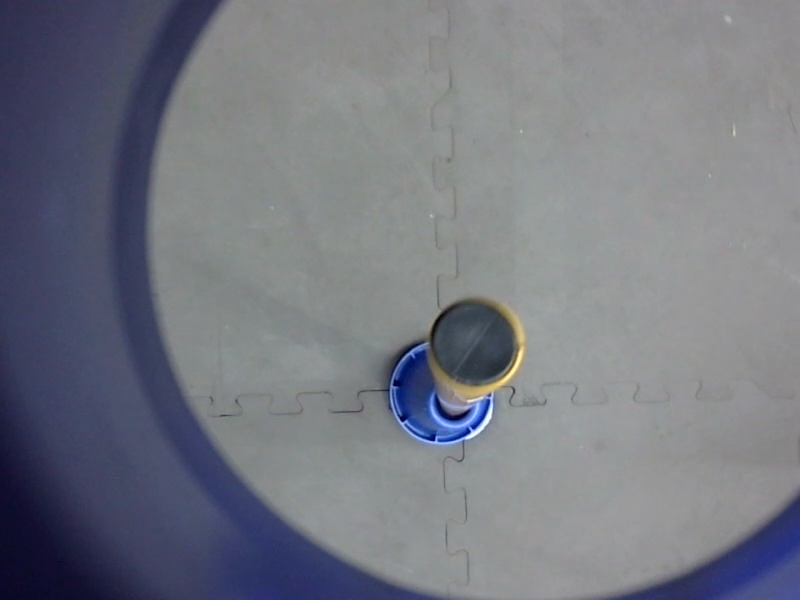tip: (422, 291, 529, 395)
